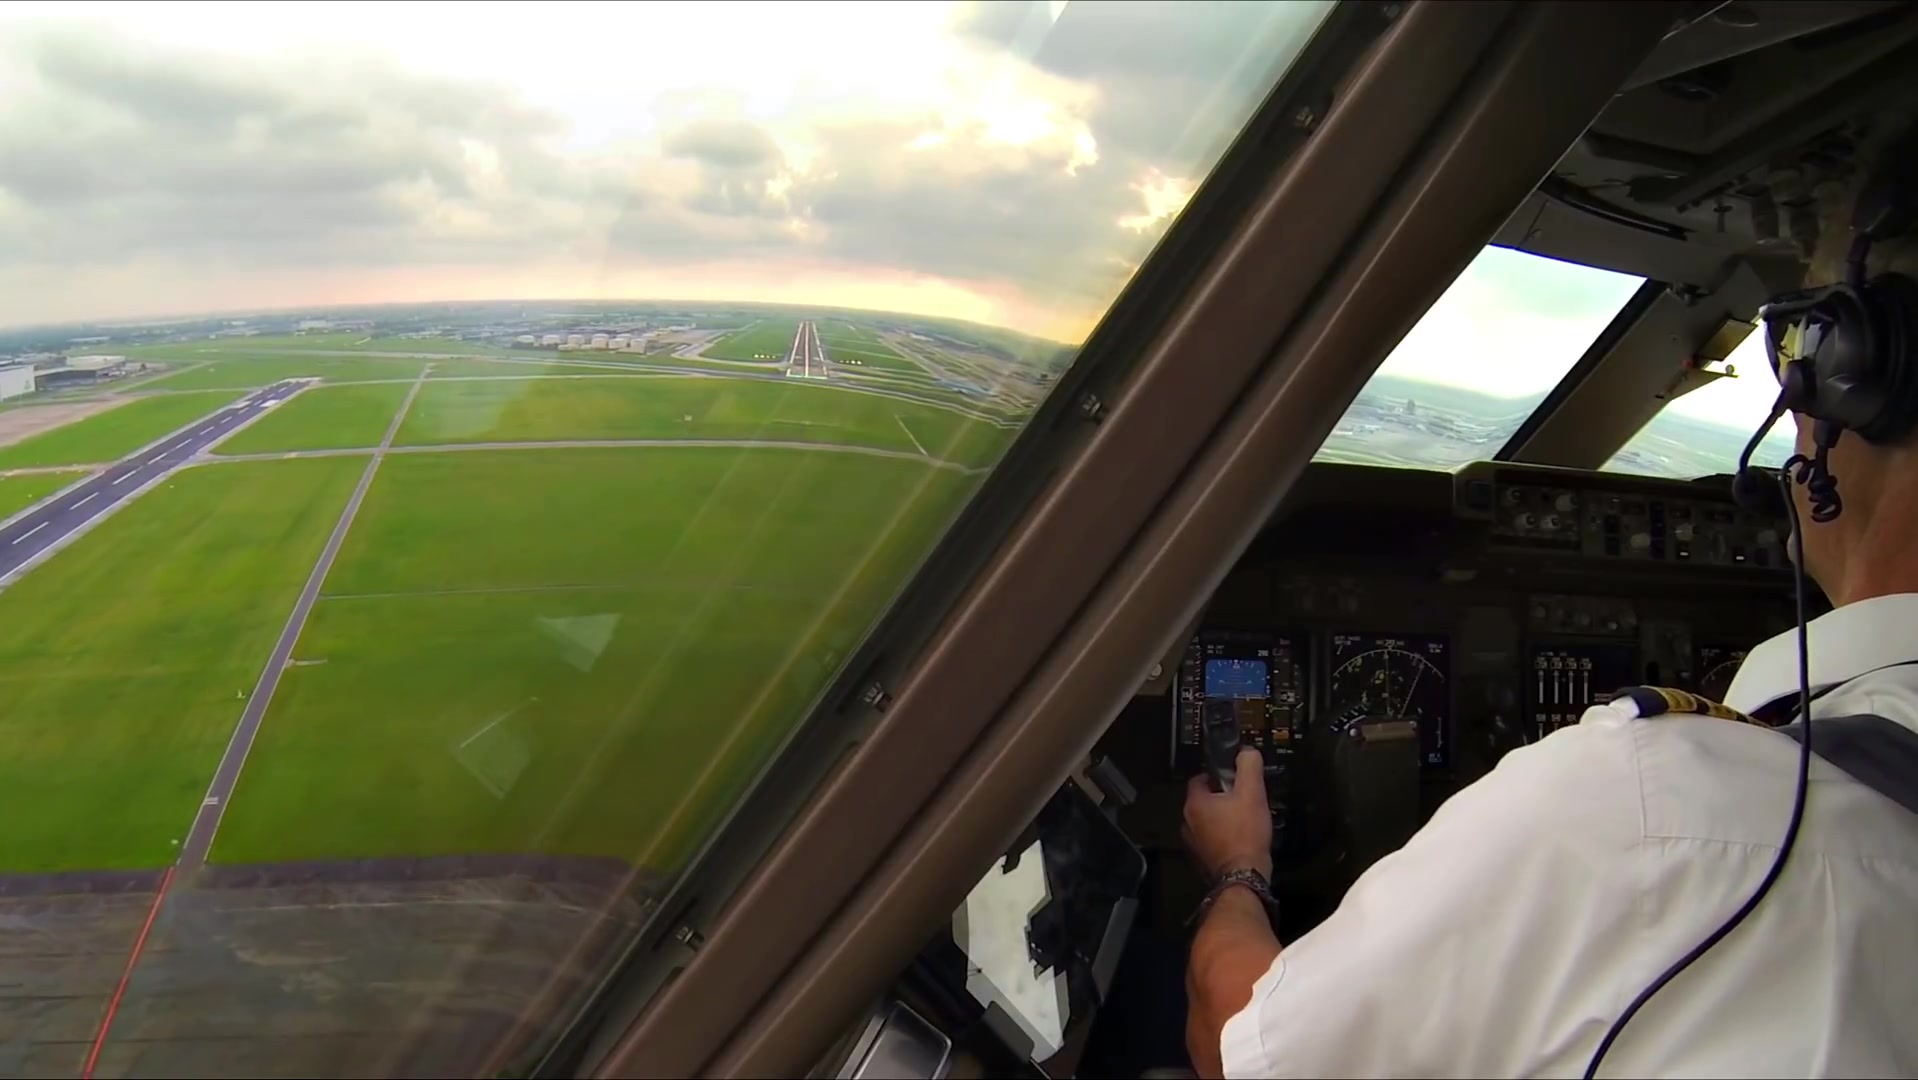runway: (780, 320, 825, 385)
